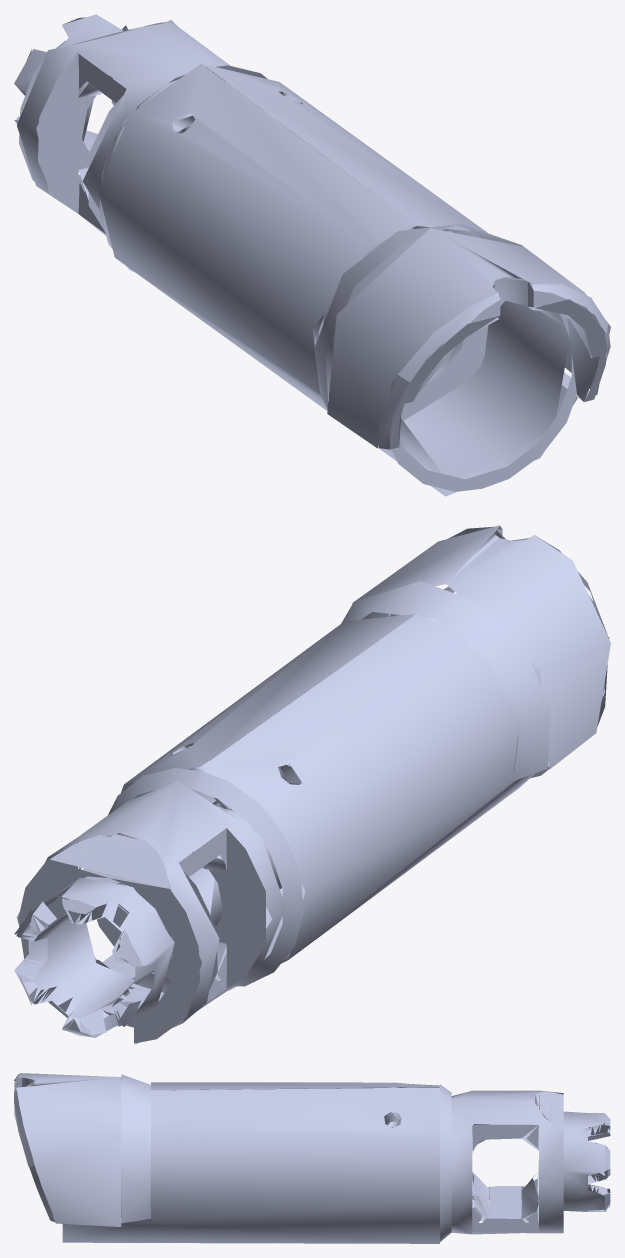
Rendered from muzzle_brake_dual_chamber.glb.
3 views of the same model, one above another, from view 1: azimuth 30°, elevation 25°; view 2: azimuth 150°, elevation 25°; view 3: azimuth 270°, elevation 25° (orthographic). The views are drawn at different scales.
Visible parts, largest first — view 1: AK12_Muzzle_Brake_Compensator; view 2: AK12_Muzzle_Brake_Compensator; view 3: AK12_Muzzle_Brake_Compensator.
Boxes of the visible parts, left/top/right/bottom form: AK12_Muzzle_Brake_Compensator: left=14, top=14, right=610, bottom=496; AK12_Muzzle_Brake_Compensator: left=14, top=525, right=610, bottom=1044; AK12_Muzzle_Brake_Compensator: left=14, top=1073, right=610, bottom=1243.
Bounding box in the file's own units: 0.0304 × 0.029 × 0.1012.
